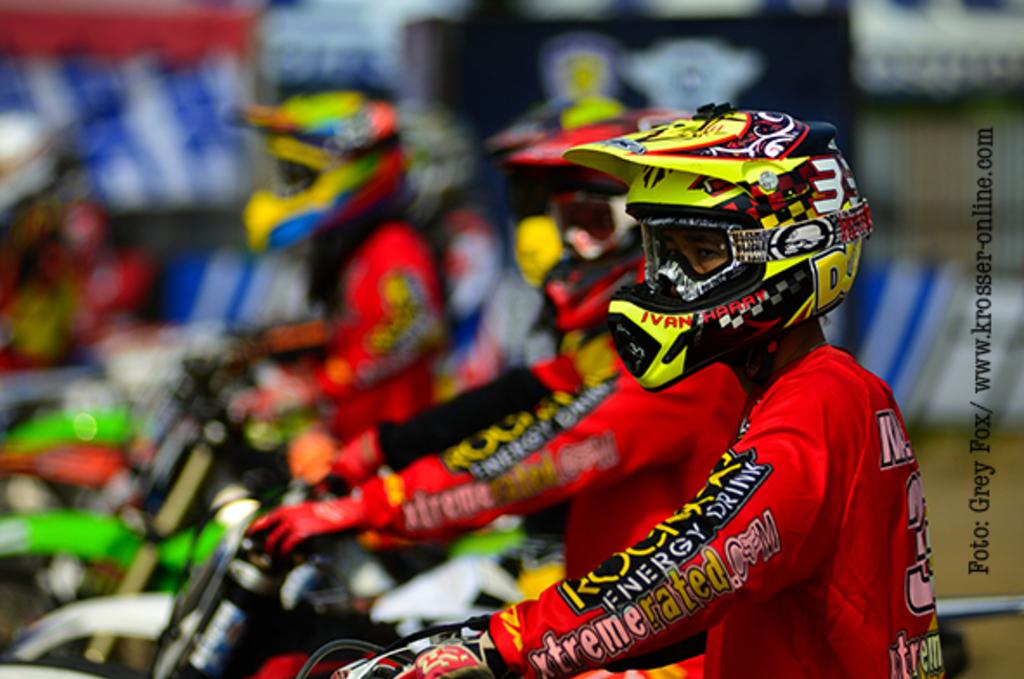helmet: (563, 101, 873, 393), (503, 110, 695, 331), (484, 90, 648, 286), (242, 89, 410, 255), (375, 105, 480, 229), (0, 110, 57, 217)
